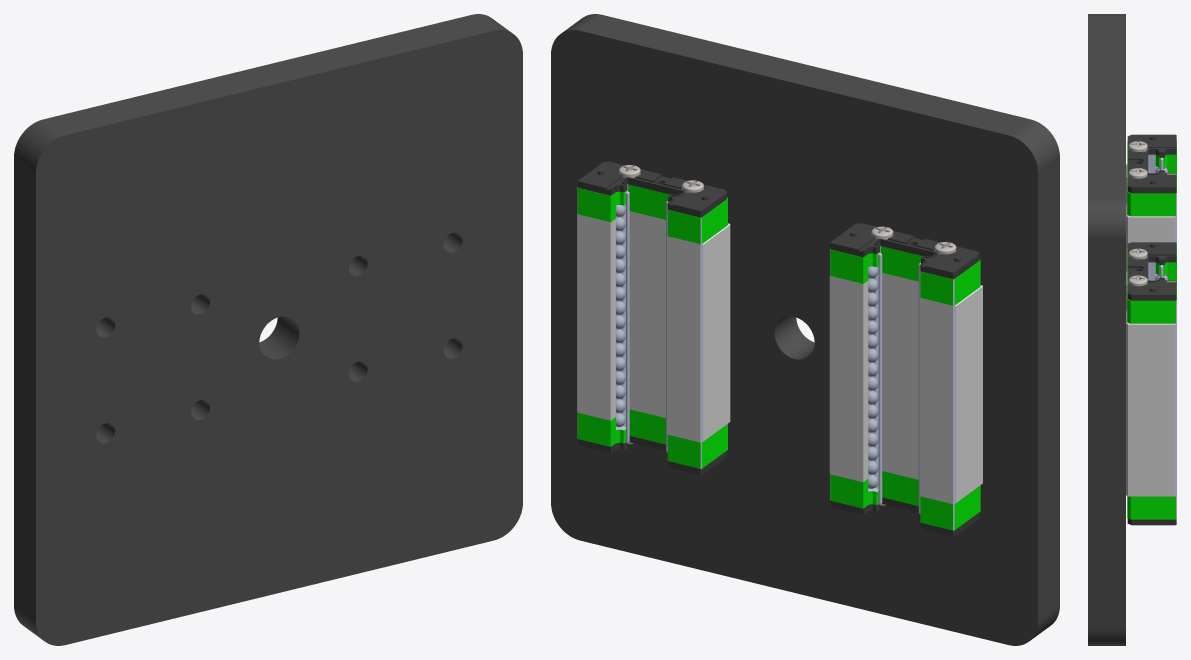
Rendered from VeriticalSlider.obj.
The picture shows the model from 3 angles, left to right: view 1: azimuth 30°, elevation 25°; view 2: azimuth 150°, elevation 25°; view 3: azimuth 270°, elevation 25°; orthographic projection. The views are drawn at different scales.
Visible parts, largest first — view 1: mesh2, mesh9, mesh7, mesh8, mesh18; view 2: mesh1, mesh201, mesh245, mesh89, mesh76, mesh9, mesh7, mesh91, mesh280, mesh198, mesh152, mesh93 (+13 smaller); view 3: mesh5, mesh53, mesh7, mesh59, mesh6, mesh389, mesh373, mesh56, mesh4, mesh384, mesh87, mesh50 (+9 smaller).
Part boxes in pixels (x1,y1,x2,y2): mesh2: (36,30,522,645); mesh9: (14,157,35,621); mesh7: (43,15,493,135); mesh8: (14,119,64,172); mesh18: (259,316,299,359); mesh1: (551,30,1037,645); mesh201: (629,211,918,479); mesh245: (667,236,952,503); mesh89: (578,214,863,481); mesh76: (703,225,982,502); mesh9: (1038,157,1059,621); mesh7: (580,15,1030,135); mesh91: (610,219,868,481); mesh280: (626,194,882,503); mesh198: (628,184,922,281); mesh152: (629,409,918,505); mesh93: (577,188,863,283); mesh5: (1088,238,1125,628); mesh53: (1128,217,1174,496); mesh7: (1088,16,1125,198); mesh59: (1130,193,1175,323); mesh6: (1088,199,1125,237); mesh389: (1127,163,1176,294); mesh373: (1127,134,1176,266); mesh56: (1130,496,1175,519); mesh4: (1088,629,1125,645); mesh384: (1131,187,1175,300); mesh87: (1175,193,1176,519); mesh50: (1126,216,1127,496).
Bounding box in the file's own units: 0.0771 × 0.0771 × 0.014.
